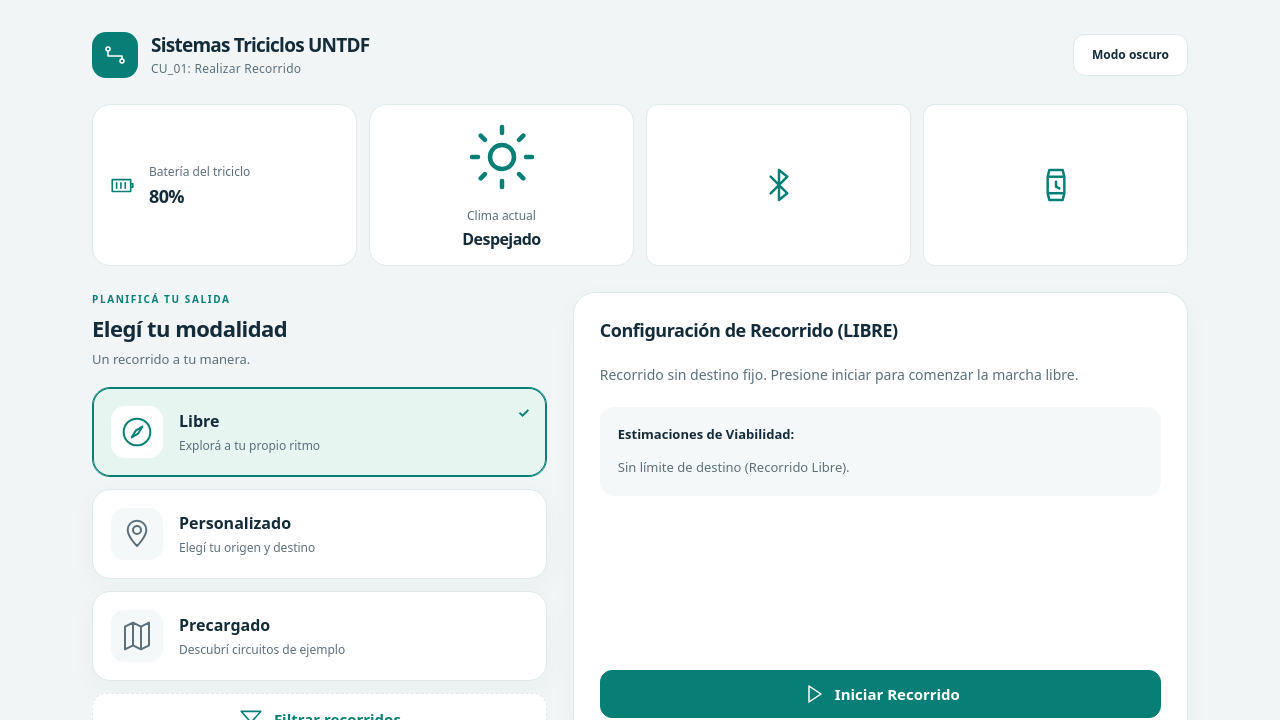
Test: TC-27: cambia tema antes de iniciar y lo conserva durante recorrido
The width and height of the screenshot is (1280, 720).
Click the button "Modo oscuro" at {"x": 1130, "y": 55}, box 1073,34 -> 1188,76
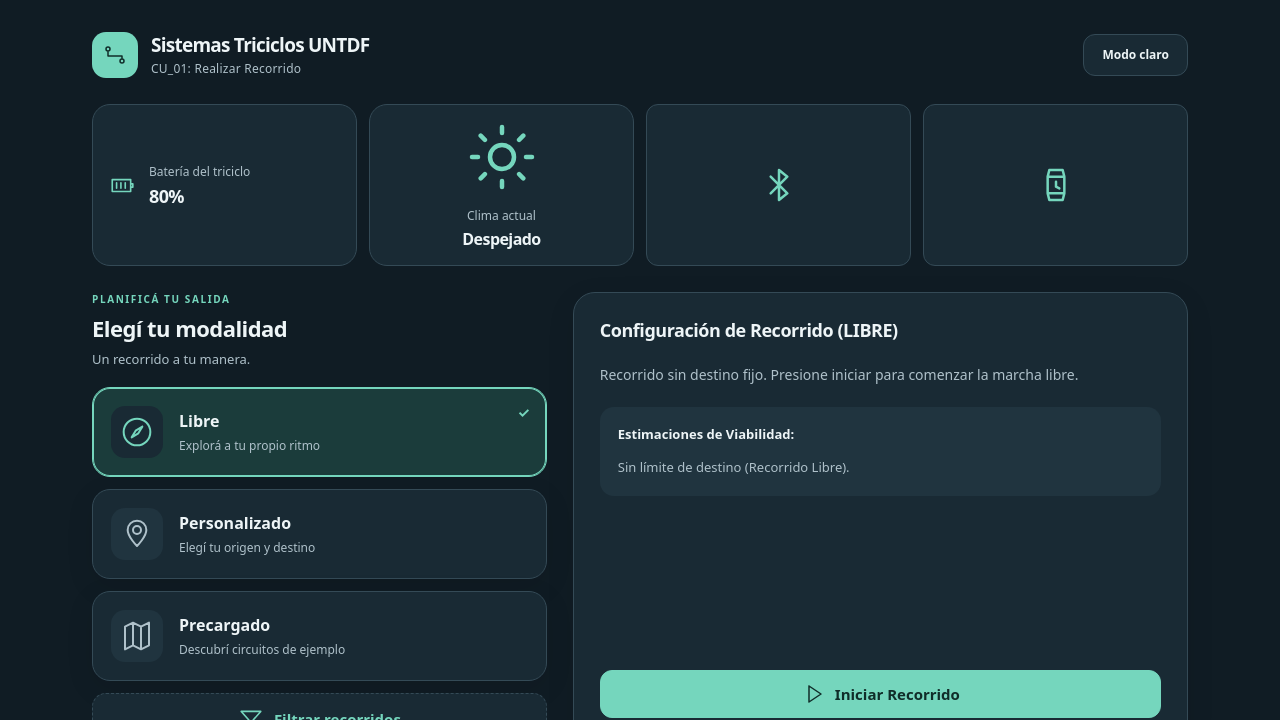
Click the button "Iniciar Recorrido" at {"x": 880, "y": 694}, box 600,670 -> 1161,718
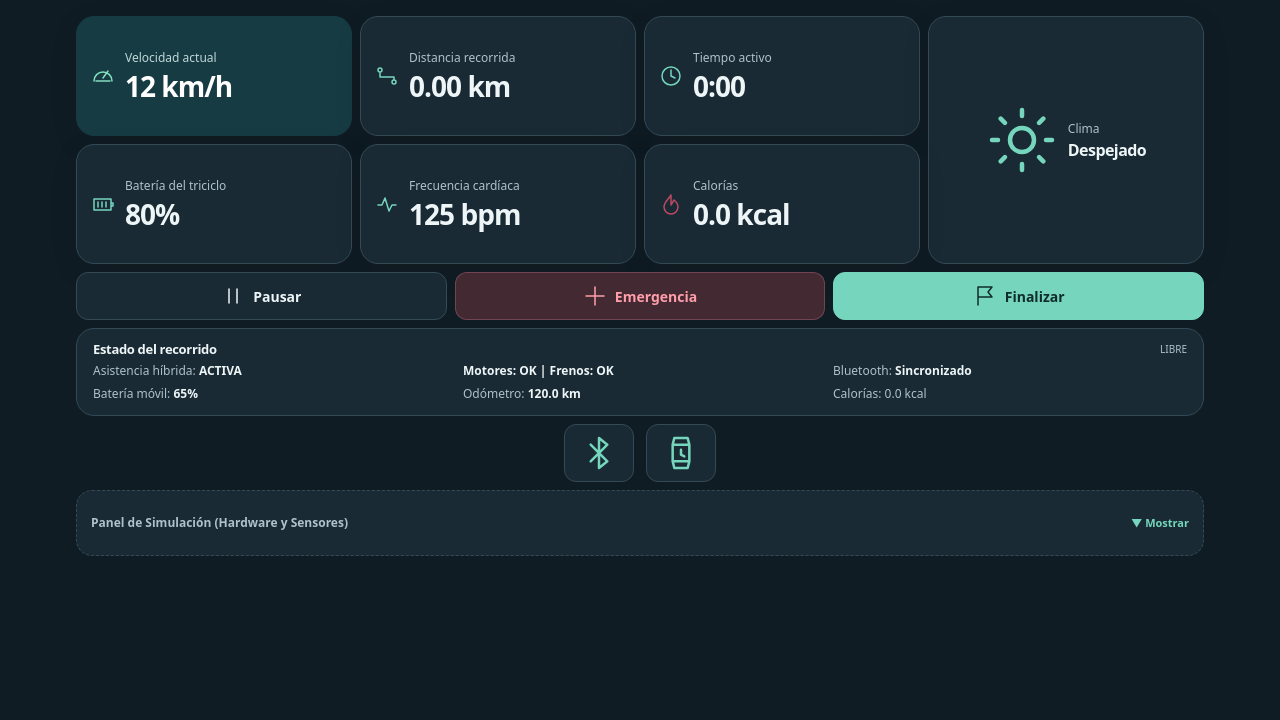
Expected: the button "Modo claro" is gone
